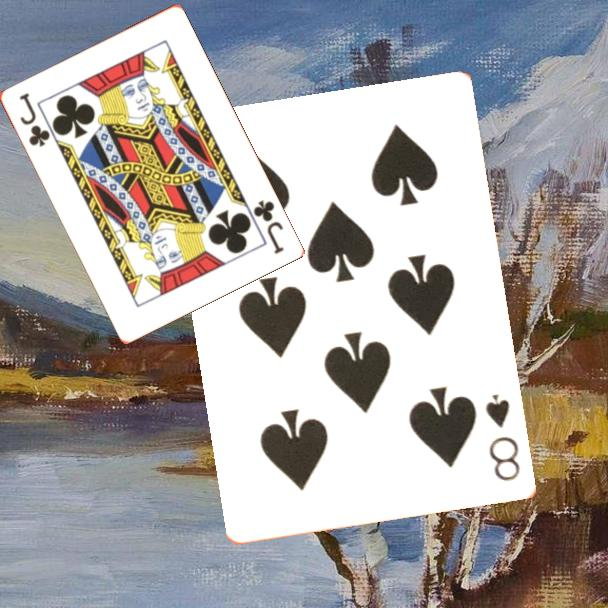c11: (15, 89, 53, 150), (249, 196, 286, 257)
s08: (482, 390, 524, 484)
